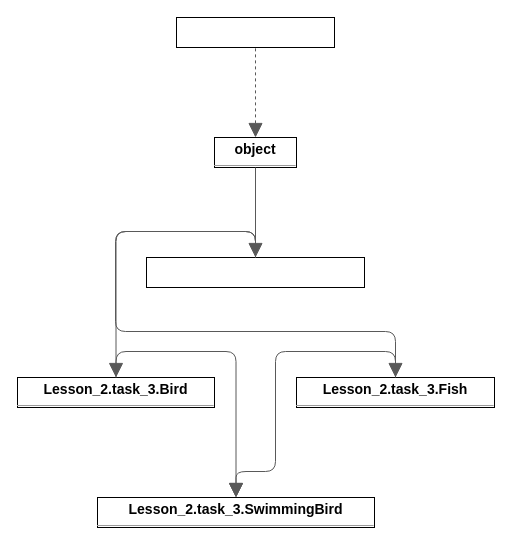
Image size: 512x545. Some labels were removed from this diagram. The shapes that lost their labels are listed below. From the top down, each one's centre as x and y in pixels, then its label:
At point 255,32: "typing.Hashable".
At point 255,272: "Lesson_2.task_3.Animal".
